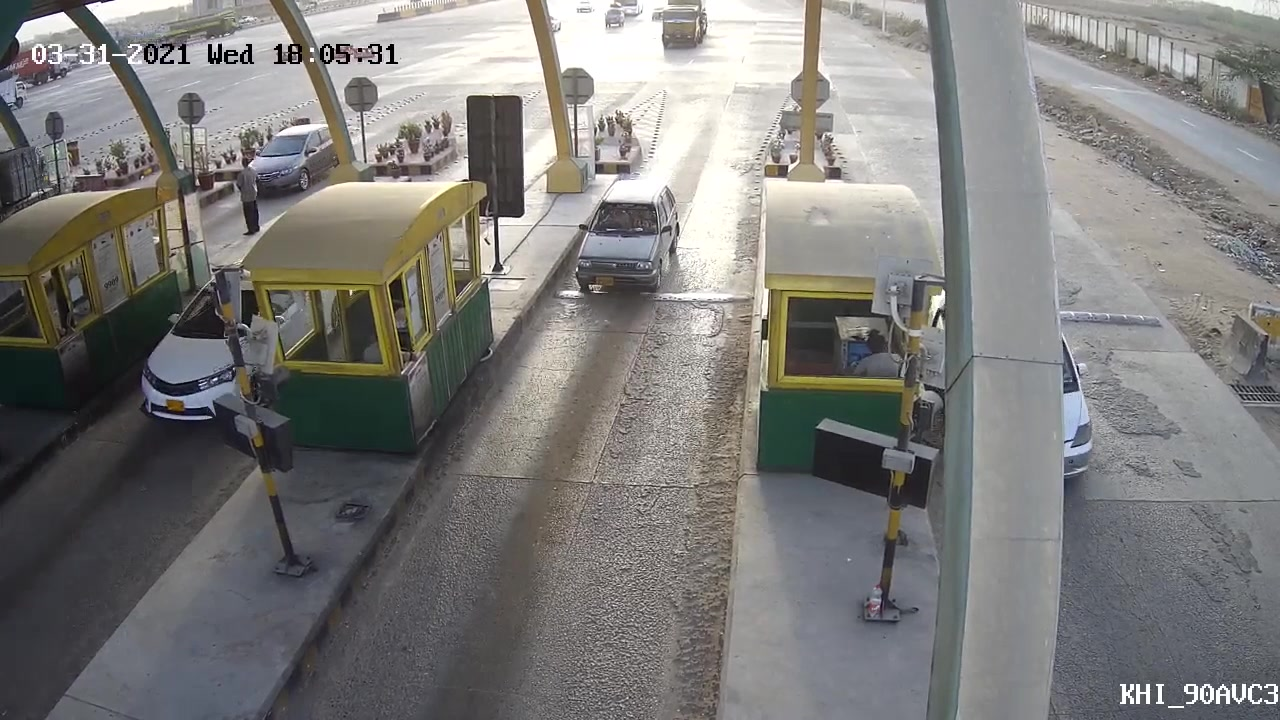F1: (564, 172, 687, 300)
